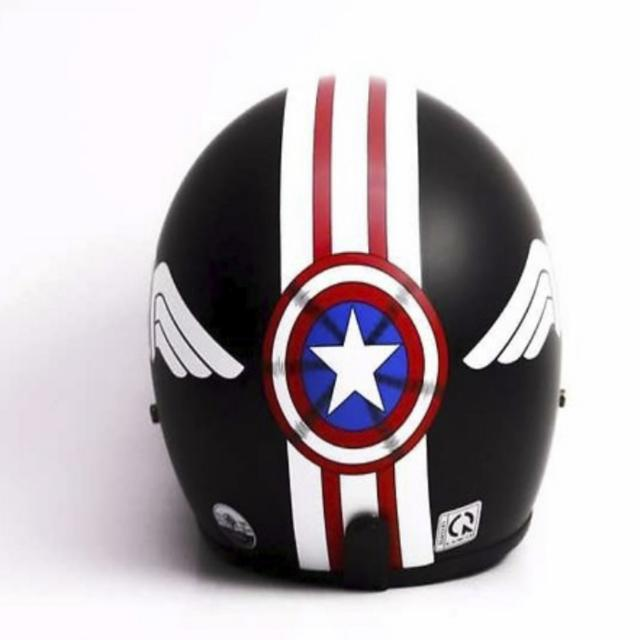Helmet: (138, 61, 572, 595)
